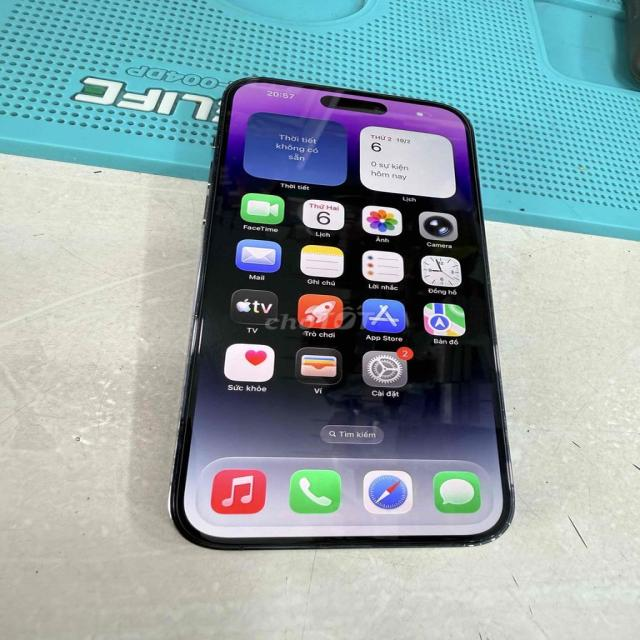gen_14: (161, 68, 528, 553)
